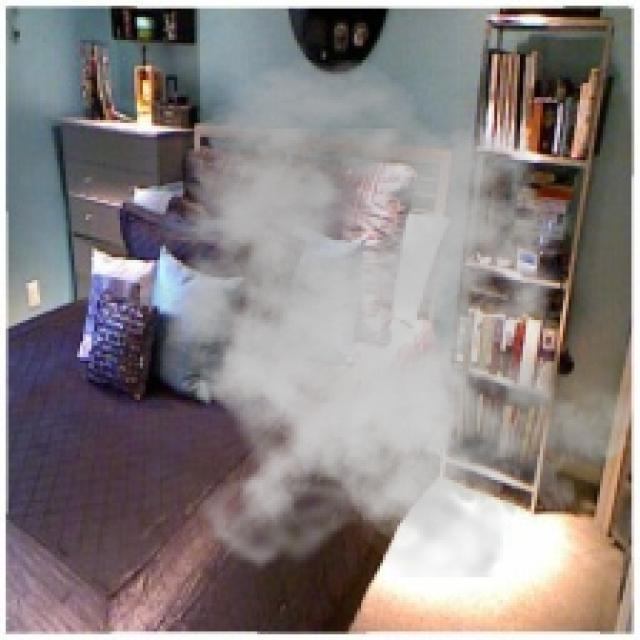Smoke: (111, 57, 632, 577)
